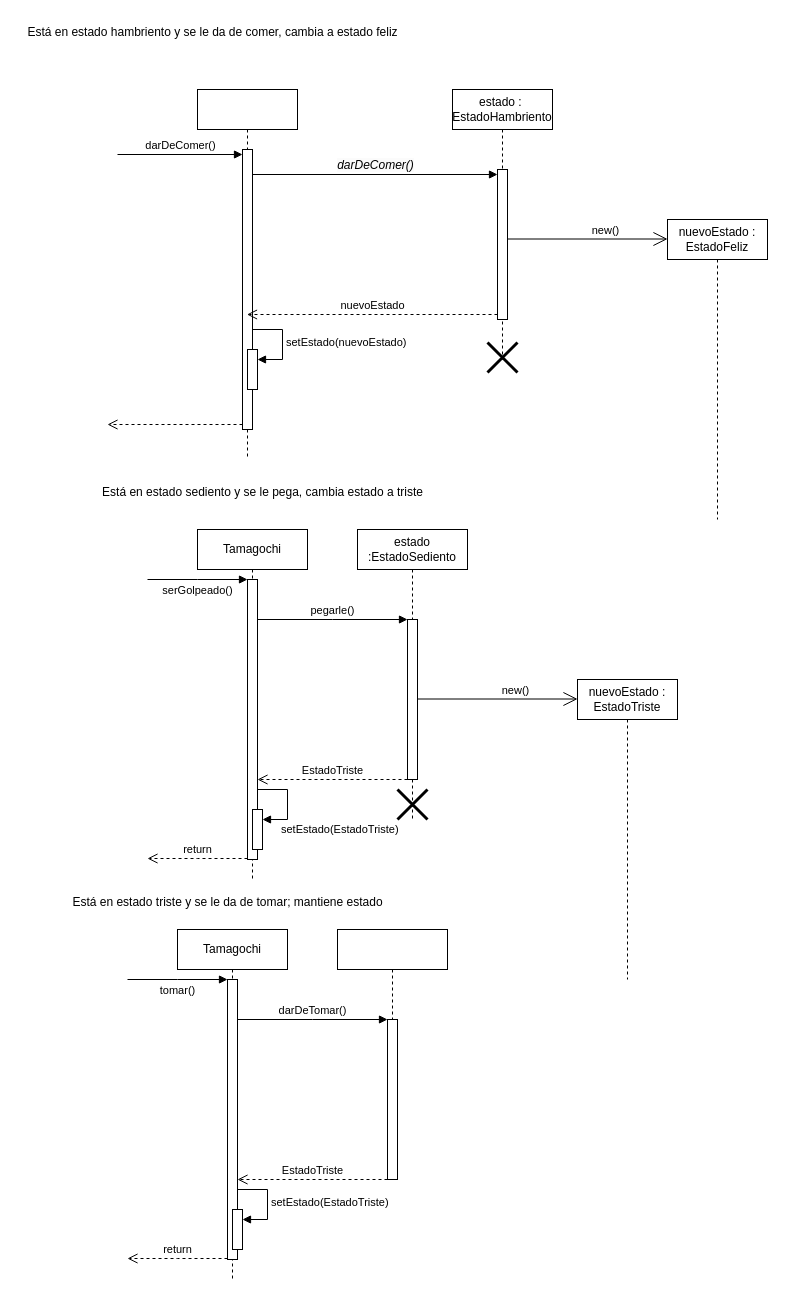
Image size: 785x1297. Some labels were removed from this diagram. The shapes that lost their labels are listed below. From the top down, each one's box as (x1, y1, x2, y2) in pixels, then its label:
(196, 88, 298, 460): t : Tamagochi
(336, 928, 448, 1180): estado :EstadoTriste
